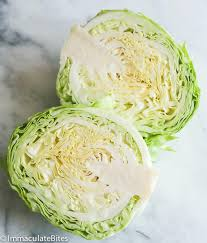cabbage: (10, 87, 160, 233), (47, 14, 199, 149)
